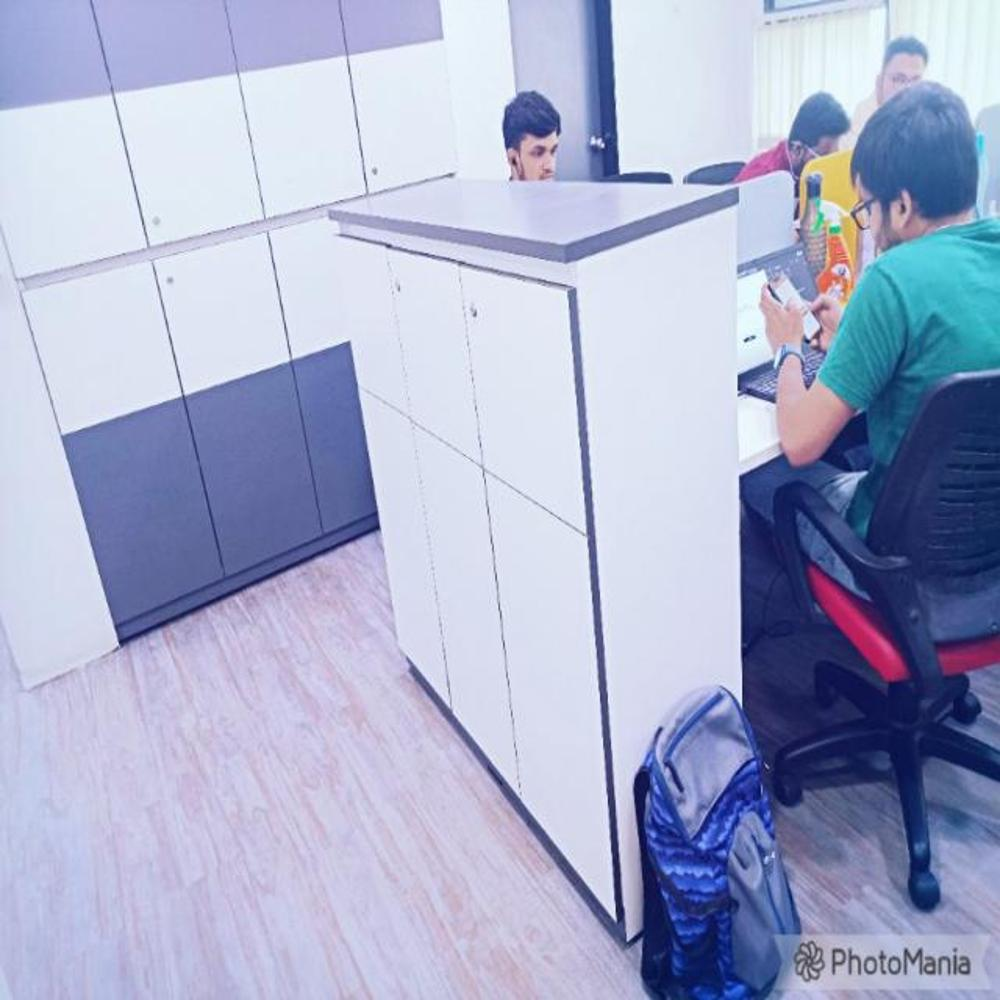cabinet: (331, 184, 802, 964)
